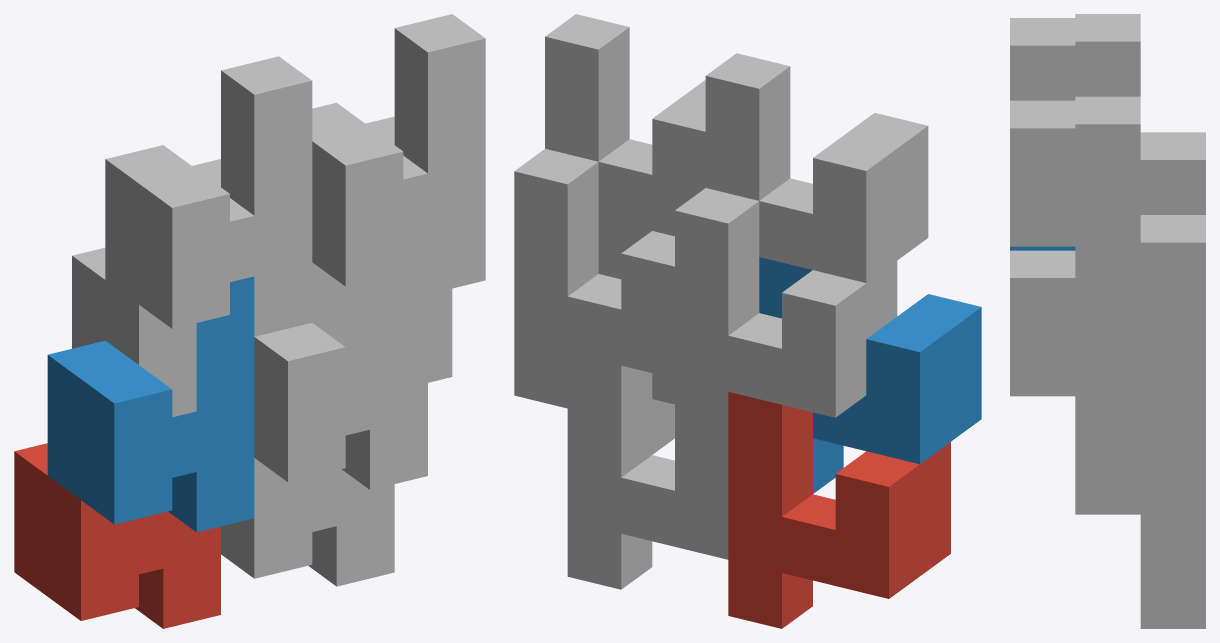
The model's file is tiling.obj.
3 renders of one model, left to right at view 1: azimuth 30°, elevation 25°; view 2: azimuth 150°, elevation 25°; view 3: azimuth 270°, elevation 25°, orthographic. The views are drawn at different scales.
Parts seen in each view (by area): view 1: copy_1_domain_4, copy_1_domain_8, copy_1_domain_2, copy_1_domain_6, copy_1_domain_1, copy_1_domain_5, copy_1_domain_3, copy_1_domain_7; view 2: copy_1_domain_1, copy_1_domain_3, copy_1_domain_4, copy_1_domain_7, copy_1_domain_5, copy_1_domain_8, copy_1_domain_2, copy_1_domain_6; view 3: copy_1_domain_8, copy_1_domain_6, copy_1_domain_7, copy_1_domain_4, copy_1_domain_5, copy_1_domain_3, copy_1_domain_2.
Part boxes in pixels (<box>): copy_1_domain_4: <box>105,56,312,336</box>; copy_1_domain_8: <box>312,14,485,294</box>; copy_1_domain_2: <box>47,276,254,532</box>; copy_1_domain_6: <box>254,234,427,489</box>; copy_1_domain_1: <box>14,443,220,628</box>; copy_1_domain_5: <box>221,458,394,586</box>; copy_1_domain_3: <box>72,159,220,417</box>; copy_1_domain_7: <box>312,116,452,382</box>; copy_1_domain_1: <box>728,392,950,628</box>; copy_1_domain_3: <box>675,188,897,447</box>; copy_1_domain_4: <box>705,53,928,282</box>; copy_1_domain_7: <box>514,148,674,408</box>; copy_1_domain_5: <box>567,352,728,589</box>; copy_1_domain_8: <box>545,14,705,236</box>; copy_1_domain_2: <box>759,257,981,493</box>; copy_1_domain_6: <box>598,218,674,454</box>; copy_1_domain_8: <box>1010,96,1140,360</box>; copy_1_domain_6: <box>1010,250,1140,510</box>; copy_1_domain_7: <box>1140,215,1205,478</box>; copy_1_domain_4: <box>1010,14,1140,100</box>; copy_1_domain_5: <box>1075,479,1205,628</box>; copy_1_domain_3: <box>1140,132,1205,214</box>; copy_1_domain_2: <box>1010,246,1075,250</box>.
Bounding box in the file's own units: 7 × 9 × 3.
